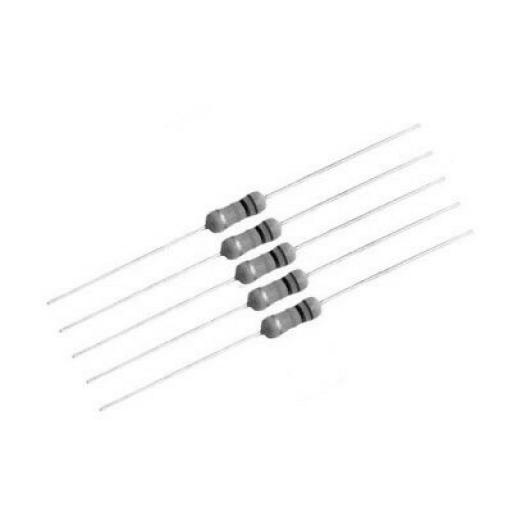RESISTOR: (178, 155, 311, 266), (173, 209, 310, 277), (204, 217, 307, 293), (232, 258, 323, 318), (245, 287, 337, 344)
